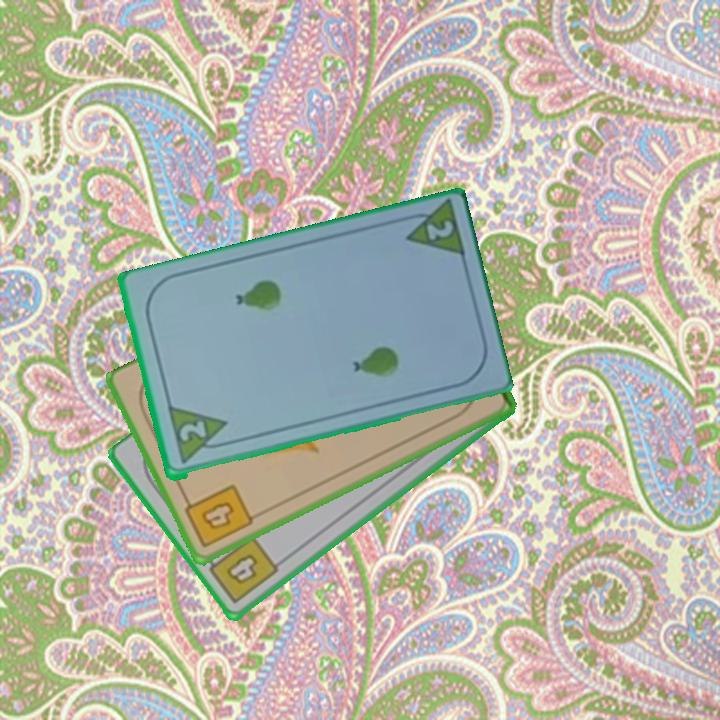2p: (394, 199, 467, 263), (164, 404, 234, 468)
4b: (201, 532, 282, 607), (179, 481, 256, 551)
